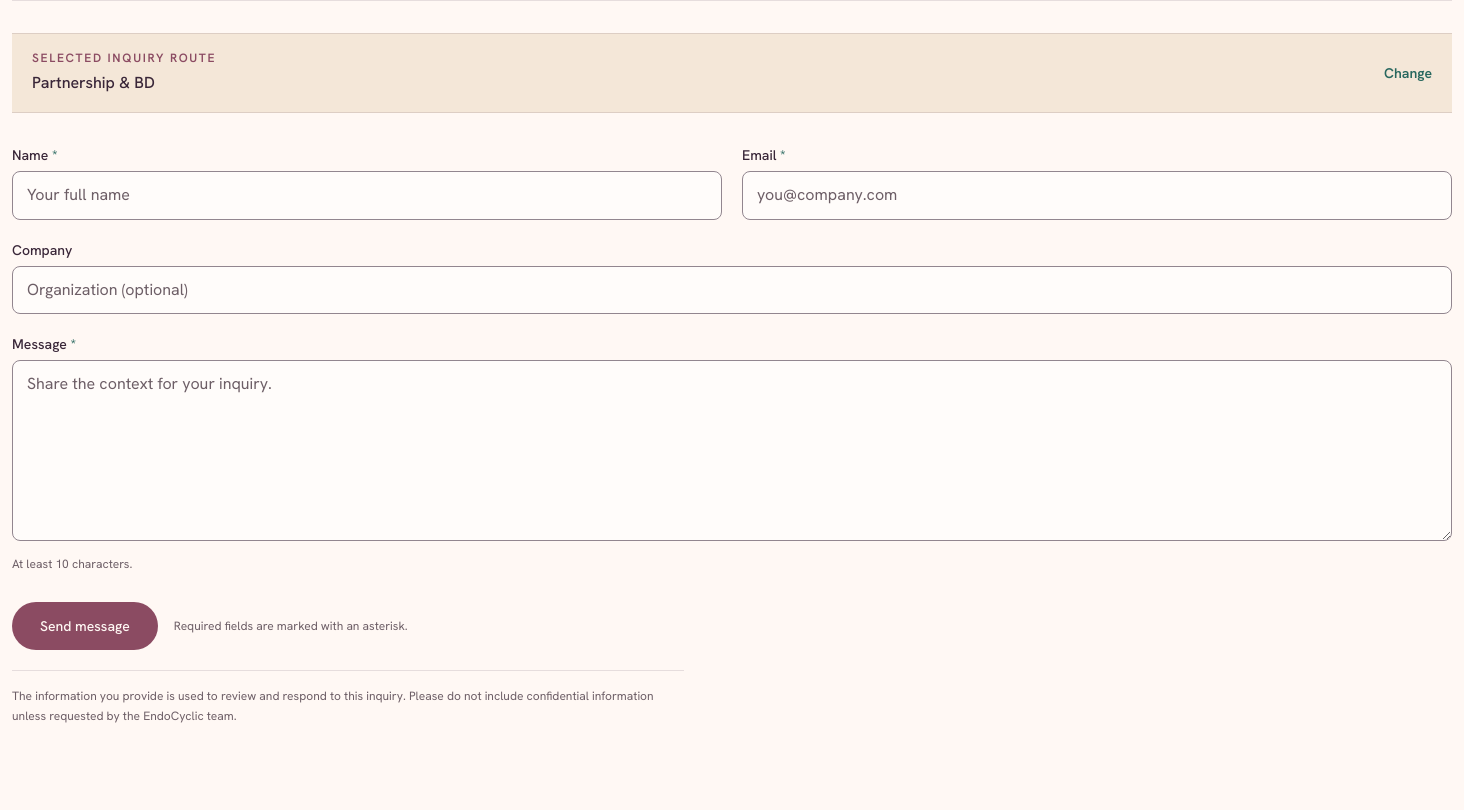
Test: ContactForm subject chooser › rejects mailbox forms that the API rejects before submitting
Type "Ada Lovelace" into the field labelled "Name" at (367, 196), box x1=12 y1=171 x2=722 y2=220
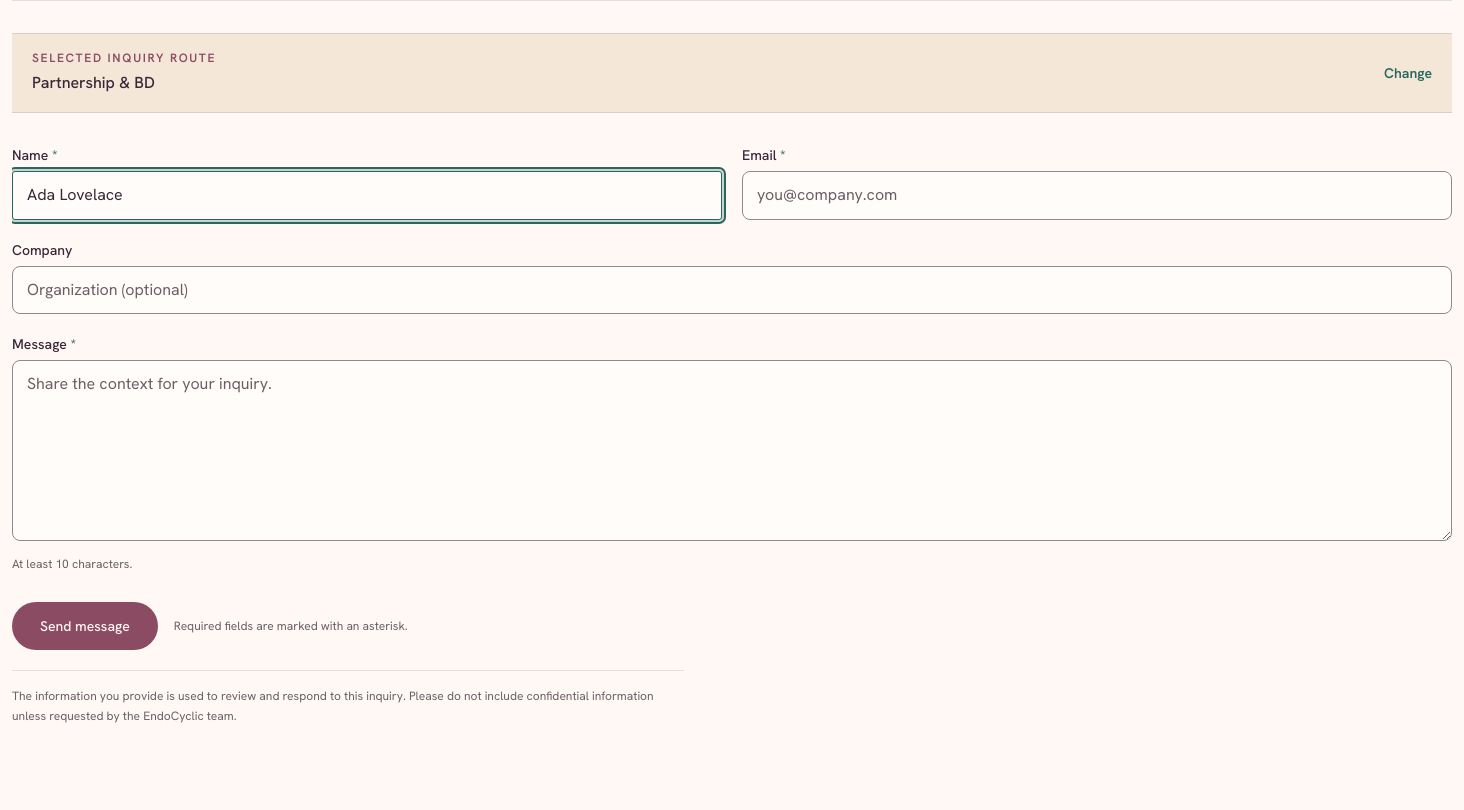
Type "ada..lovelace@example.com" into the field labelled "Email" at (1097, 196), box x1=742 y1=171 x2=1452 y2=220
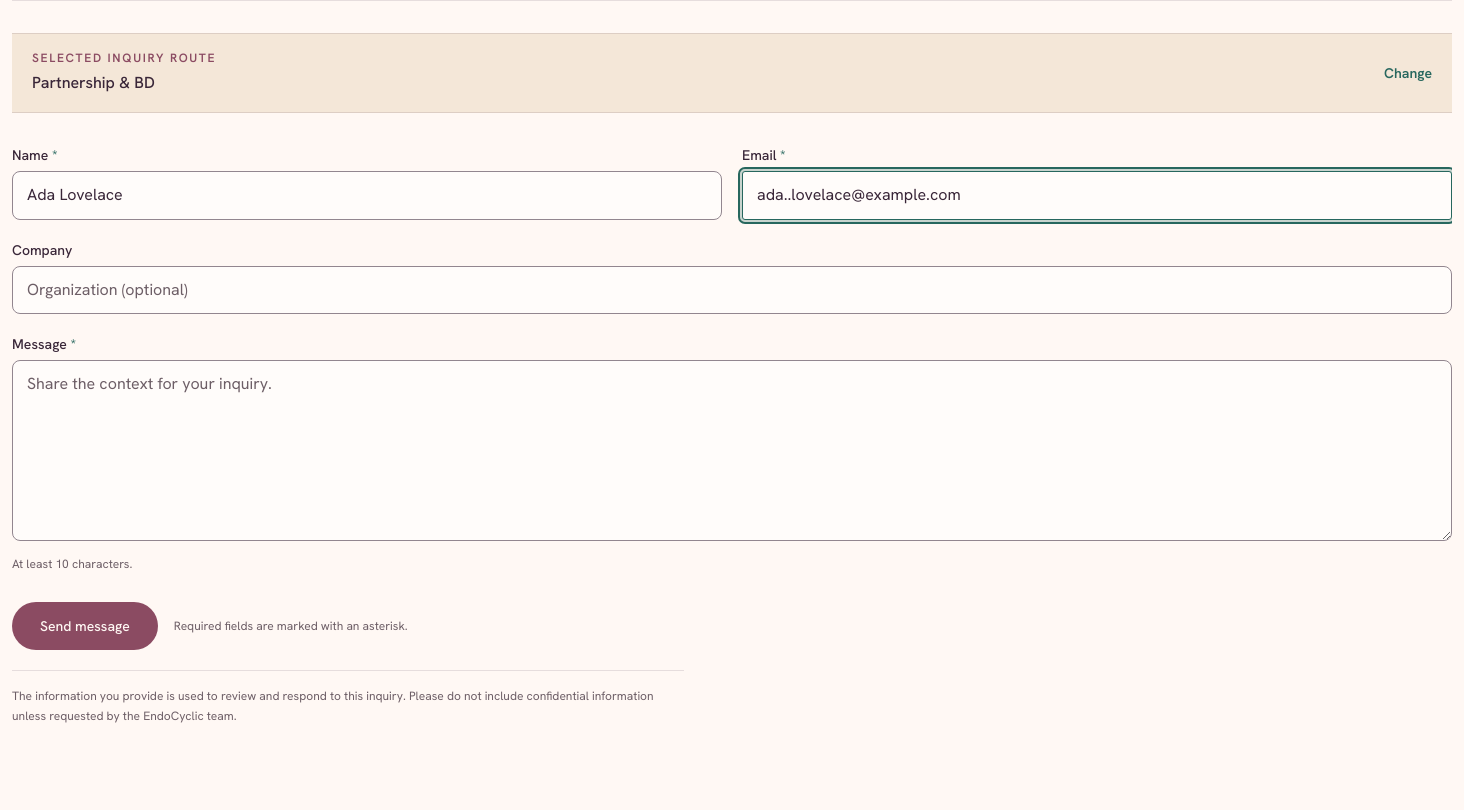
Type "I would like to discuss a potential partnership." into the text box labelled "Message" at (732, 450), box x1=12 y1=360 x2=1452 y2=540
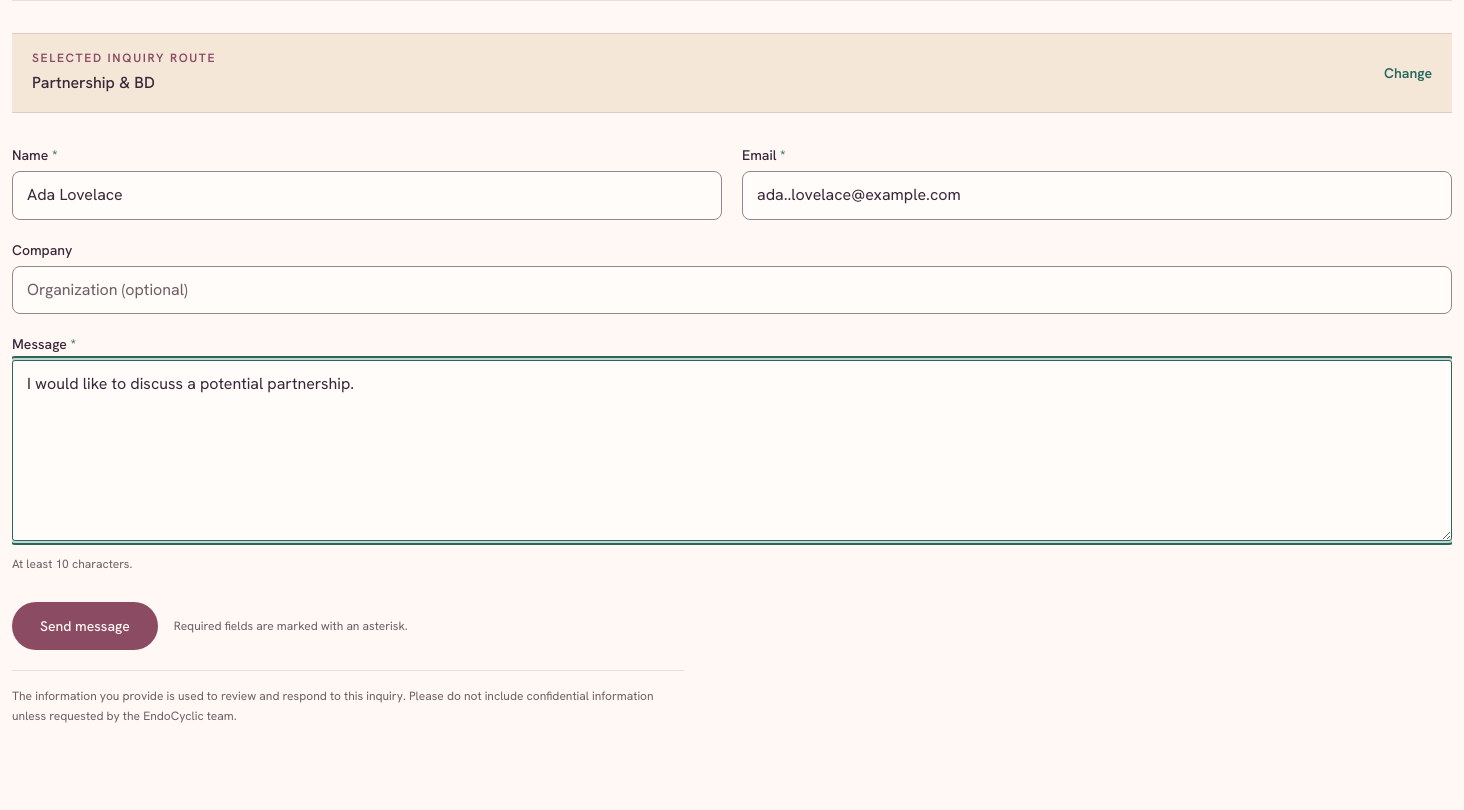
Click the button "Send message" at (85, 626), box x1=12 y1=602 x2=158 y2=650
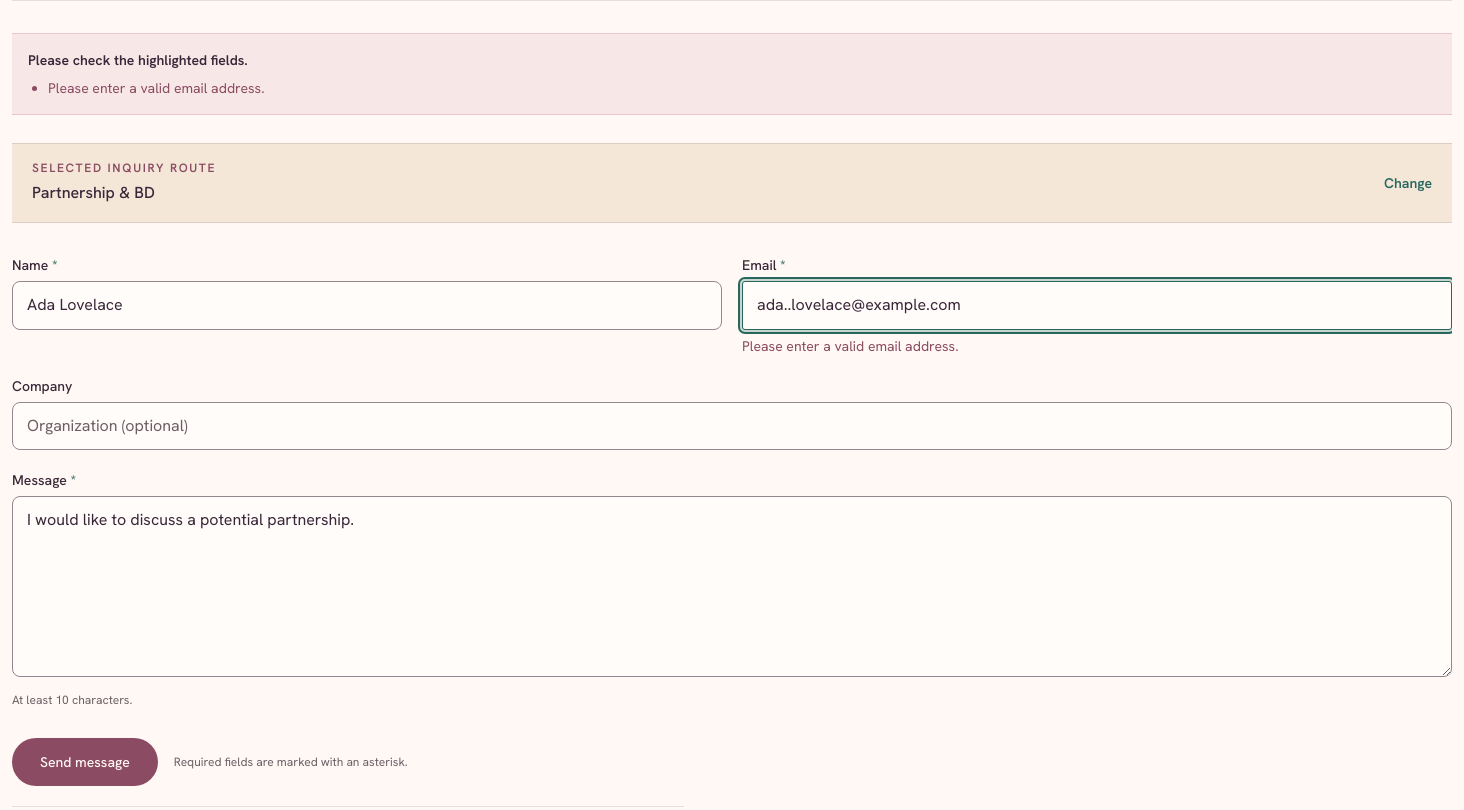
Expected: the number of links "Please enter a valid email address." is 2, x1=48 y1=78 x2=264 y2=98; x1=742 y1=337 x2=958 y2=355
